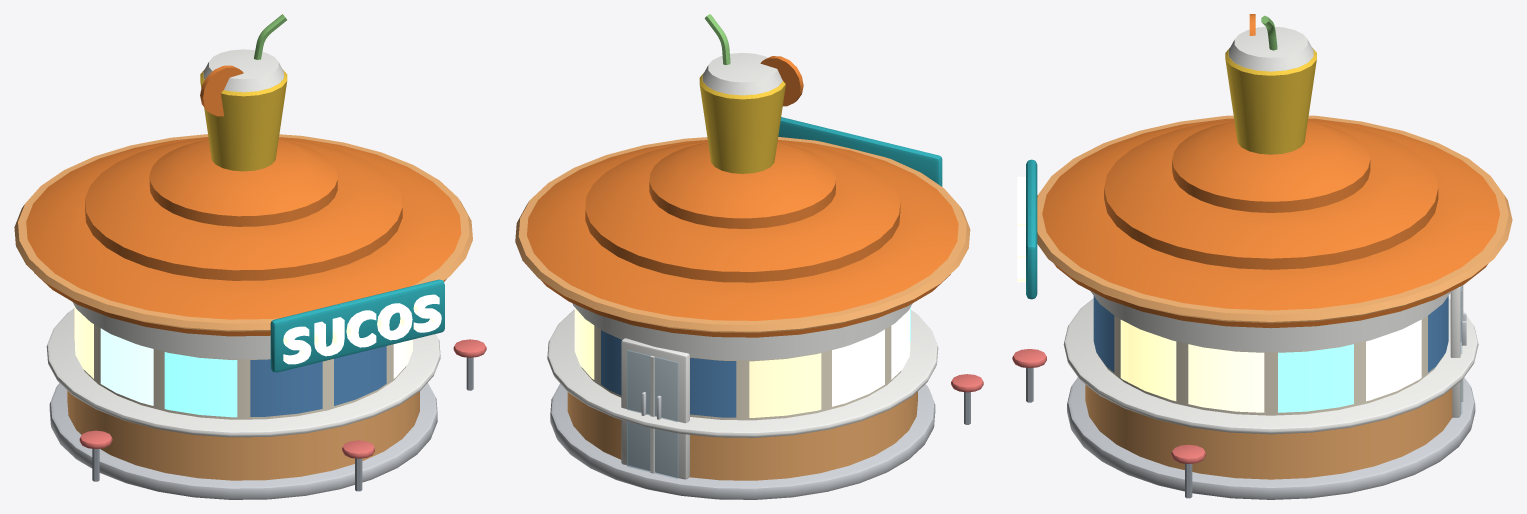
File: quiosque_sucos.glb
3 renders of one model, left to right at view 1: azimuth 30°, elevation 25°; view 2: azimuth 150°, elevation 25°; view 3: azimuth 270°, elevation 25°, orthographic. The views are drawn at different scales.
Parts seen in each view (by area): view 1: quiosque_sucos; view 2: quiosque_sucos; view 3: quiosque_sucos.
Boxes of the visible parts, x1,y1,x2,y2 form: quiosque_sucos: (14,14,486,499); quiosque_sucos: (515,14,983,499); quiosque_sucos: (1012,14,1512,499).
Size of the model in its own units: 7.89 by 7.46 by 8.08.
Materials: 8 (1 with a texture image).
